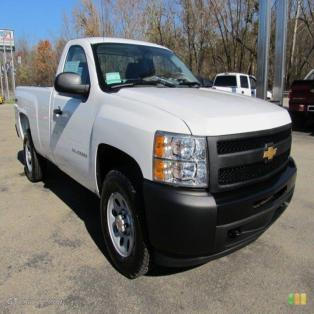Auto: (13, 35, 299, 279)
